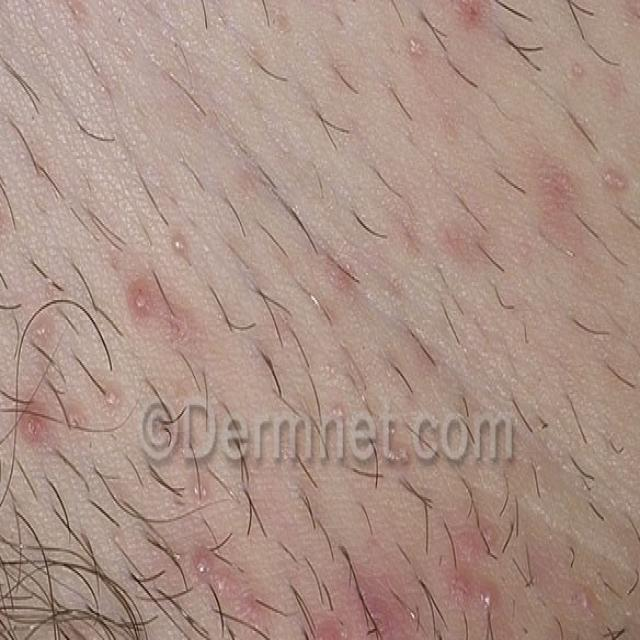Viral Infections: (439, 479, 604, 640), (183, 470, 256, 626), (283, 557, 415, 640), (12, 394, 61, 482), (388, 18, 444, 93), (118, 260, 170, 337), (163, 208, 192, 273), (0, 201, 23, 266)
